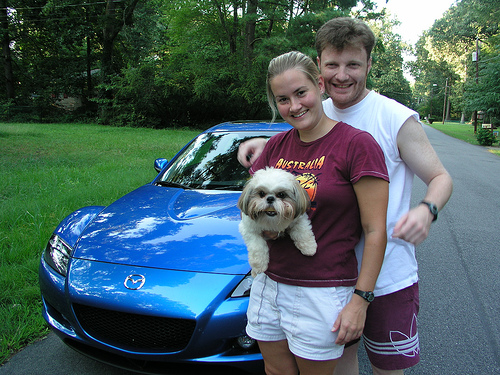without_mask: (315, 42, 371, 102), (269, 70, 325, 129)
